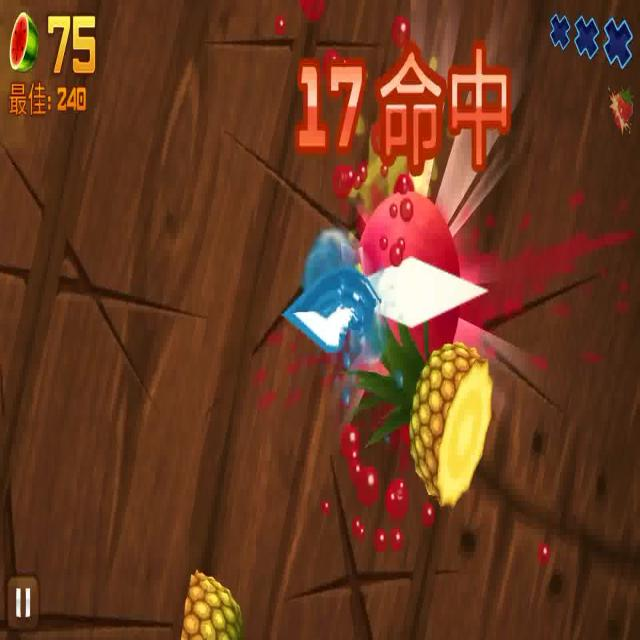fruit: (352, 345, 492, 507), (358, 184, 471, 351), (178, 555, 242, 640)
